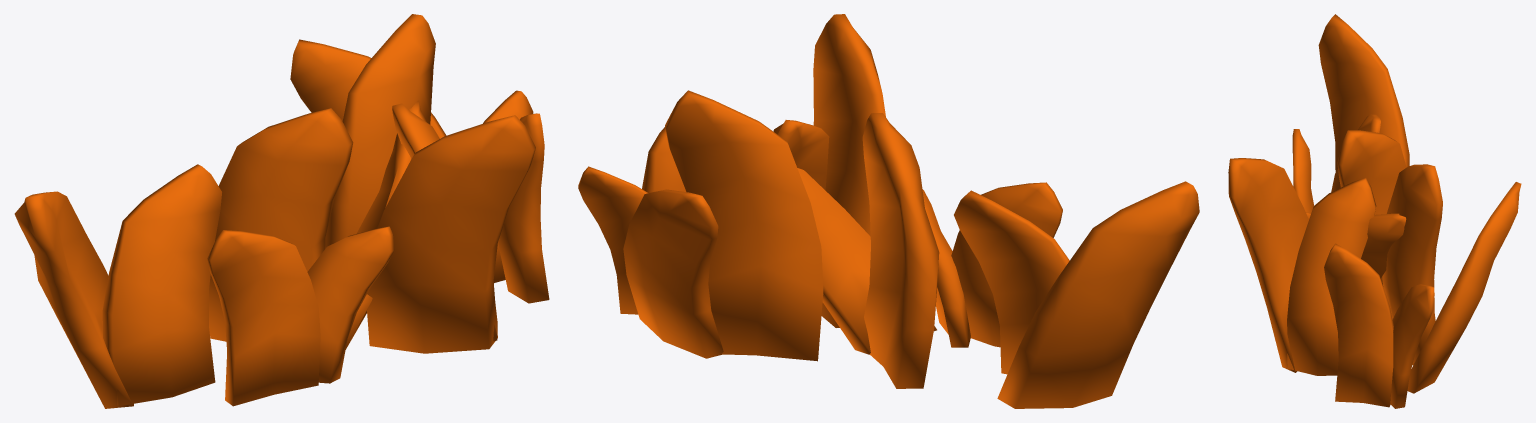
Rendered from grass-12_col.fbx.
3 renders of one model, left to right at view 1: azimuth 30°, elevation 25°; view 2: azimuth 150°, elevation 25°; view 3: azimuth 270°, elevation 25°, orthographic. The views are drawn at different scales.
Parts seen in each view (by area): view 1: grass-12.col; view 2: grass-12.col; view 3: grass-12.col.
Part boxes in pixels (box(x1,y1,x2,y2)): grass-12.col: box(14, 14, 549, 408); grass-12.col: box(578, 14, 1199, 408); grass-12.col: box(1228, 14, 1521, 408).
Size of the model in its own units: 0.2566 by 0.1128 by 0.1438.
1 material, 1 textured.
